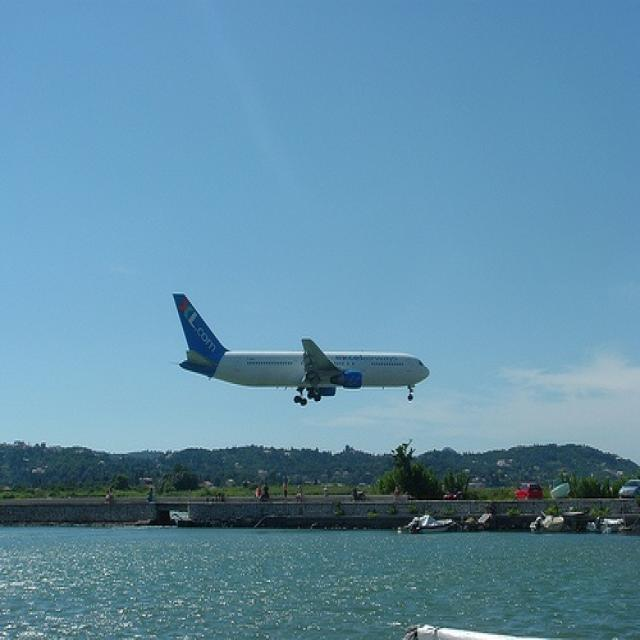aeroplane: (168, 290, 431, 408)
